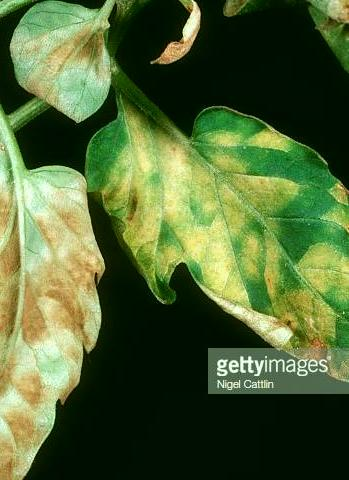Tomato mold leaf: (97, 97, 349, 411)
